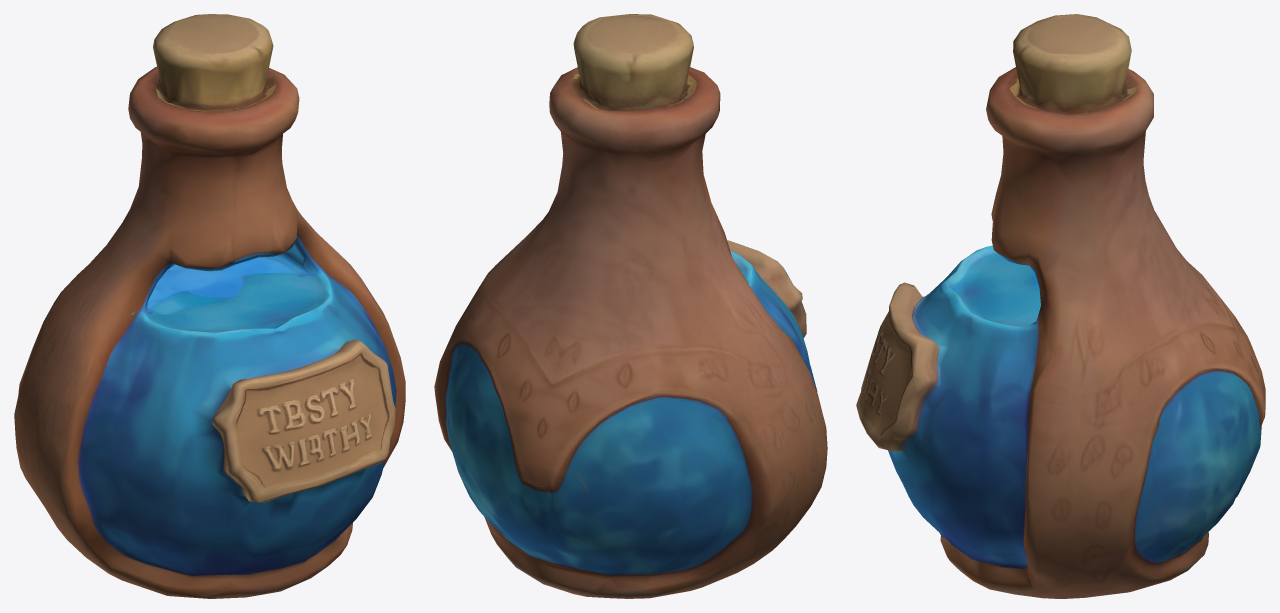
The model's file is water.glb.
3 views of the same model, side by side, from view 1: azimuth 30°, elevation 25°; view 2: azimuth 150°, elevation 25°; view 3: azimuth 270°, elevation 25° (orthographic).
Visible parts, largest first — view 1: Mesh1.0; view 2: Mesh1.0; view 3: Mesh1.0.
Boxes of the visible parts, left/top/right/bottom form: Mesh1.0: left=14, top=14, right=405, bottom=598; Mesh1.0: left=434, top=14, right=827, bottom=598; Mesh1.0: left=856, top=14, right=1265, bottom=598.
Bounding box in the file's own units: 1.36 × 1.91 × 1.37.
Materials: 1 (1 with a texture image).
